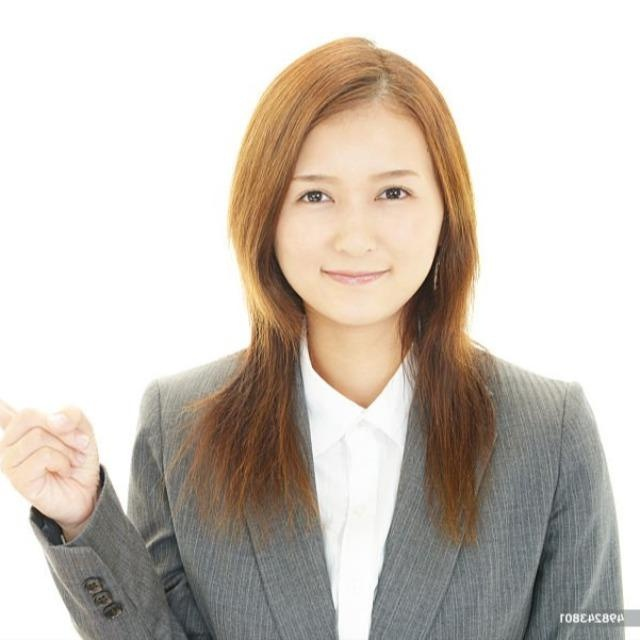Sin_Casco_Mascarrilla: (234, 38, 477, 325)
Sin_Chaleco: (137, 332, 590, 639)
